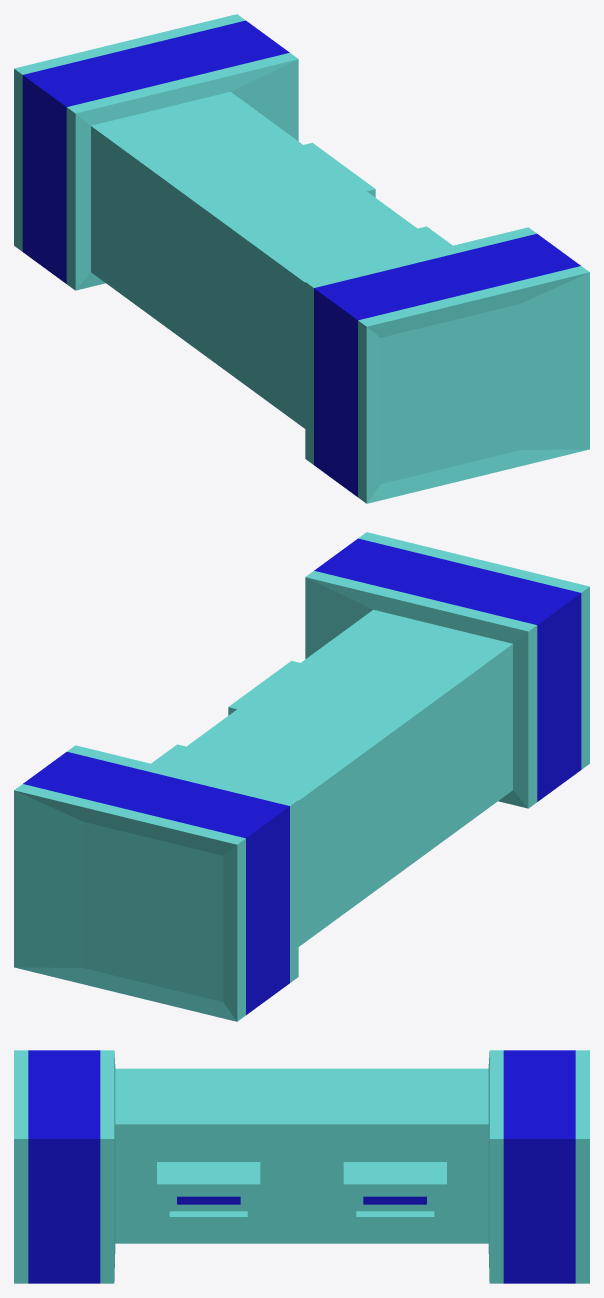
The model's file is PingPong3D.fbx.
3 views of the same model, one above another, from view 1: azimuth 30°, elevation 25°; view 2: azimuth 150°, elevation 25°; view 3: azimuth 270°, elevation 25° (orthographic). The views are drawn at different scales.
Parts seen in each view (by area): view 1: Cube; view 2: Cube; view 3: Cube.
Boxes of the visible parts, x1,y1,x2,y2 form: Cube: (14, 14, 589, 503); Cube: (14, 532, 589, 1021); Cube: (14, 1050, 589, 1283).
Size of the model in its own units: 73.24 by 55.53 by 200.
